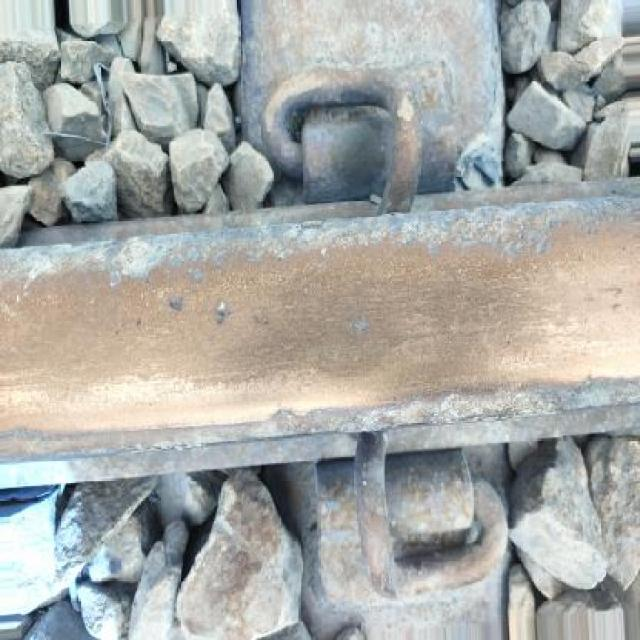defective: (0, 170, 640, 589)
